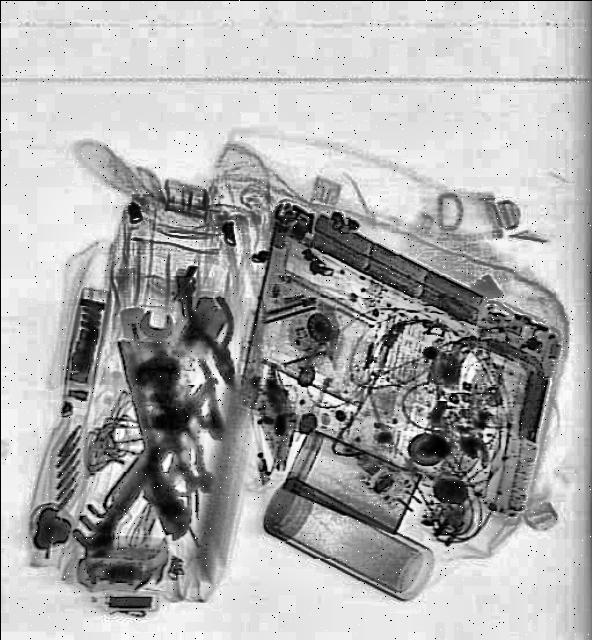Pliers: (182, 286, 252, 388)
Wrench: (138, 307, 182, 387)
